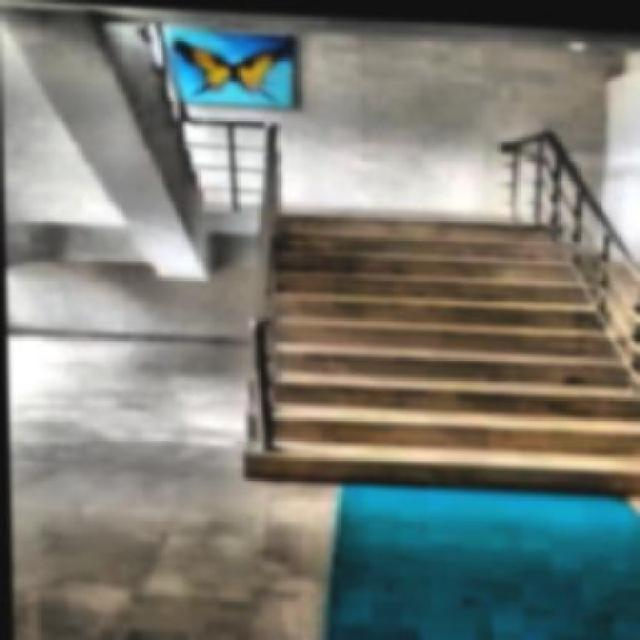stair: (236, 196, 638, 489)
